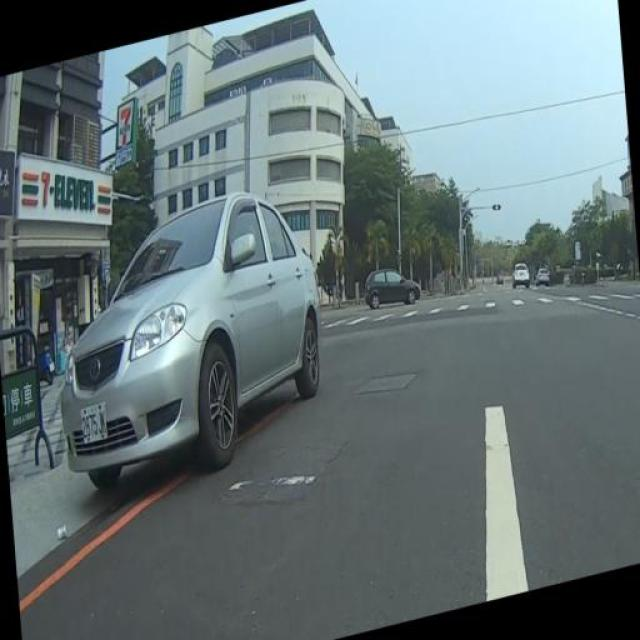Legalparking: (24, 166, 391, 513)
